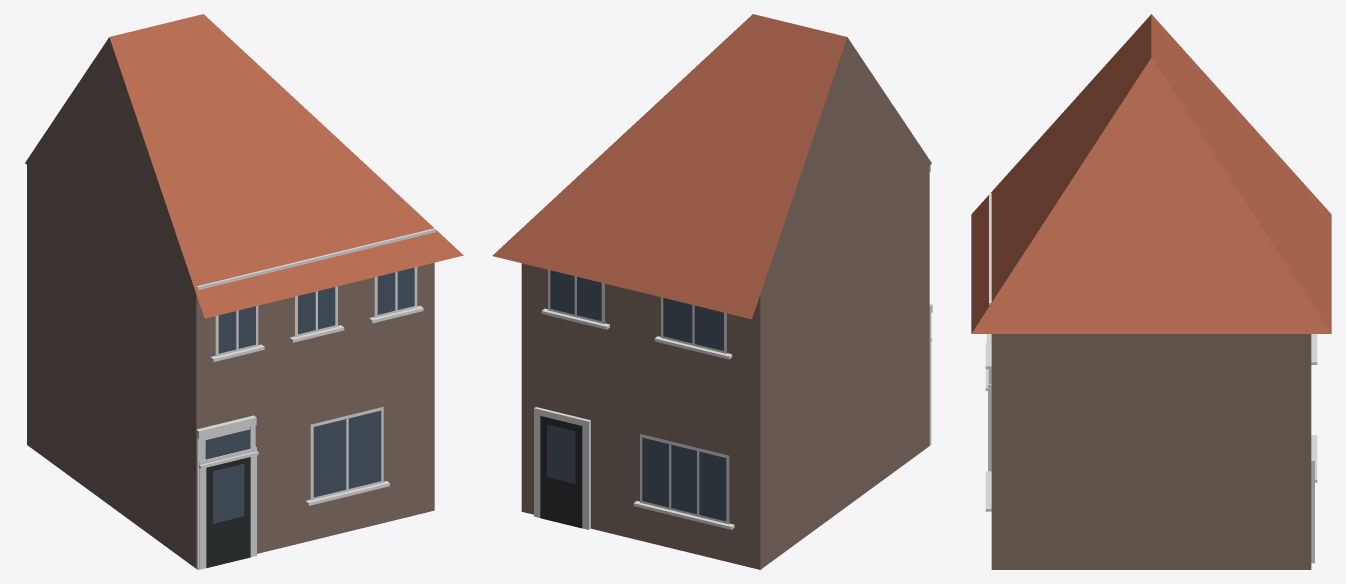
Rendered from nn-row-small__small__2__hip__long__solid__endR.glb.
3 views of the same model, side by side, from view 1: azimuth 30°, elevation 25°; view 2: azimuth 150°, elevation 25°; view 3: azimuth 270°, elevation 25° (orthographic). The views are drawn at different scales.
Parts seen in each view (by area): view 1: nn-row-small__small__2__hip__long__solid__endR; view 2: nn-row-small__small__2__hip__long__solid__endR; view 3: nn-row-small__small__2__hip__long__solid__endR.
Part boxes in pixels (<box>): nn-row-small__small__2__hip__long__solid__endR: <box>25,14,463,569</box>; nn-row-small__small__2__hip__long__solid__endR: <box>492,14,932,569</box>; nn-row-small__small__2__hip__long__solid__endR: <box>971,14,1331,569</box>.
Size of the model in its own units: 5.57 by 9.66 by 7.09.
